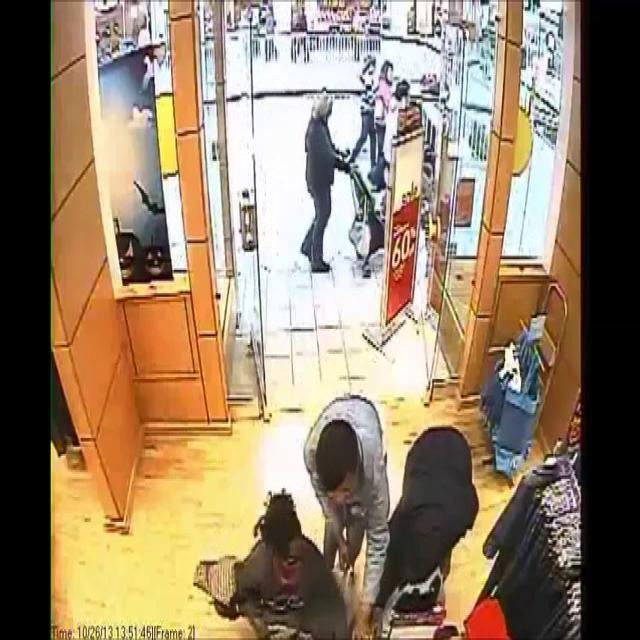normal: (291, 376, 389, 528), (300, 78, 350, 290)
shoplifting: (364, 418, 477, 640), (227, 476, 333, 640)
